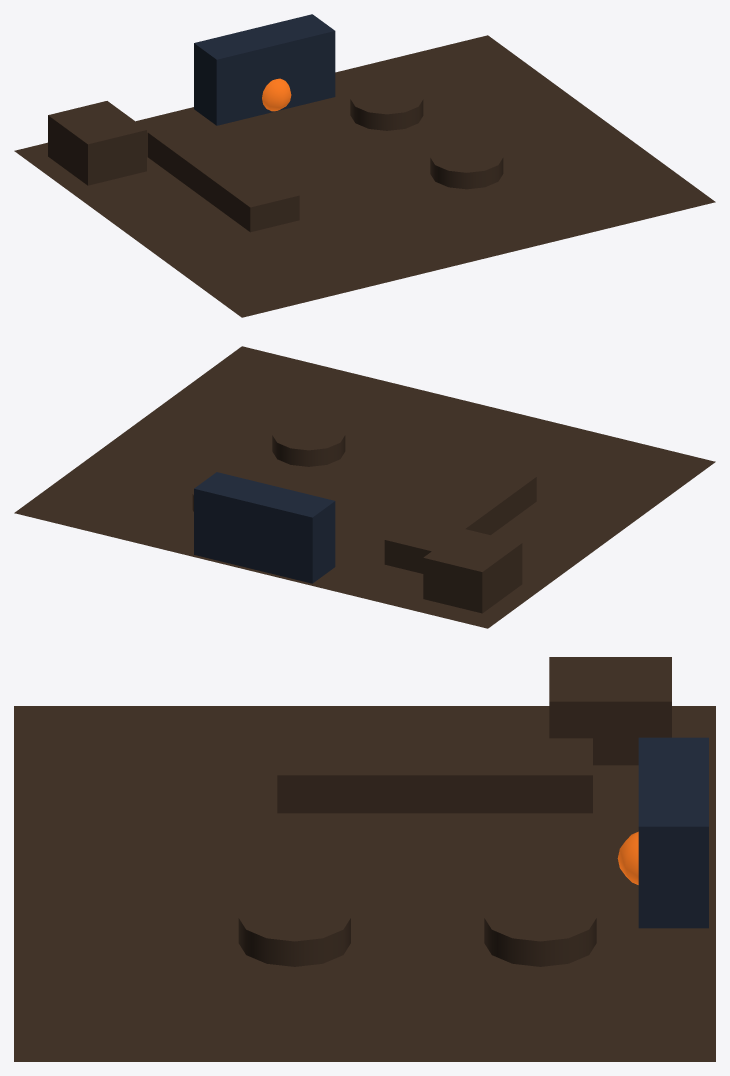
File: lor_06.glb
The picture shows the model from 3 angles, top to bottom: view 1: azimuth 30°, elevation 25°; view 2: azimuth 150°, elevation 25°; view 3: azimuth 270°, elevation 25°; orthographic projection. The views are drawn at different scales.
Visible parts, largest first — view 1: scenario_base_floor, LOR_06; view 2: scenario_base_floor, LOR_06; view 3: scenario_base_floor, LOR_06.
Boxes of the visible parts, left/top/right/bottom form: scenario_base_floor: left=14, top=35, right=715, bottom=317; LOR_06: left=48, top=14, right=503, bottom=232; scenario_base_floor: left=14, top=346, right=715, bottom=628; LOR_06: left=192, top=419, right=536, bottom=613; scenario_base_floor: left=14, top=706, right=715, bottom=1061; LOR_06: left=238, top=657, right=708, bottom=966.
Bounding box in the file's own units: 24 × 3.2 × 20.
